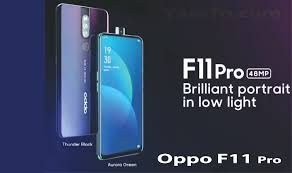oppo: (96, 31, 147, 164), (56, 2, 107, 135)
